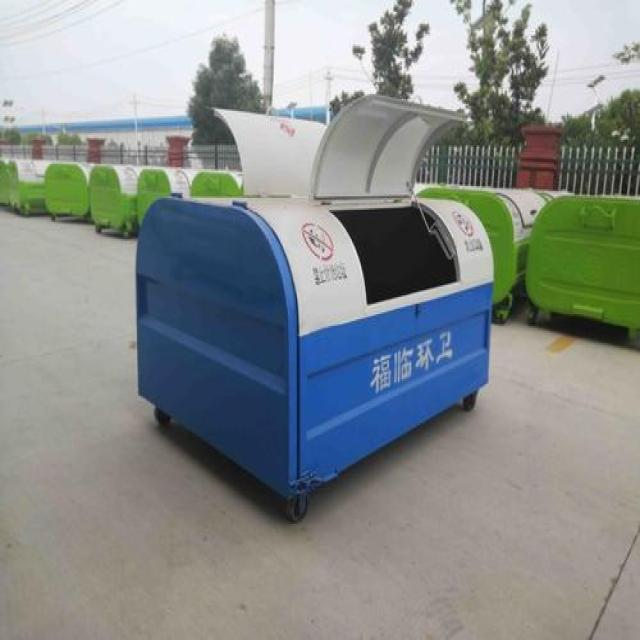garbage_bin: (134, 191, 494, 521)
